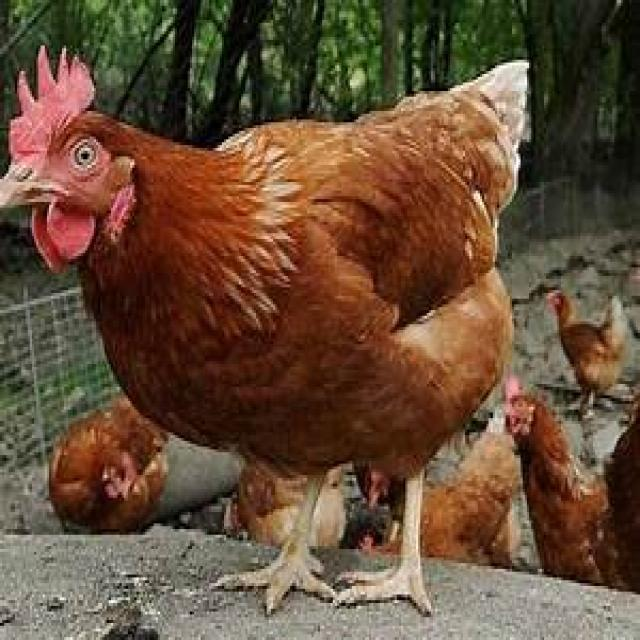animal: (0, 54, 529, 595), (503, 375, 640, 589), (51, 392, 170, 536), (545, 292, 625, 424)
